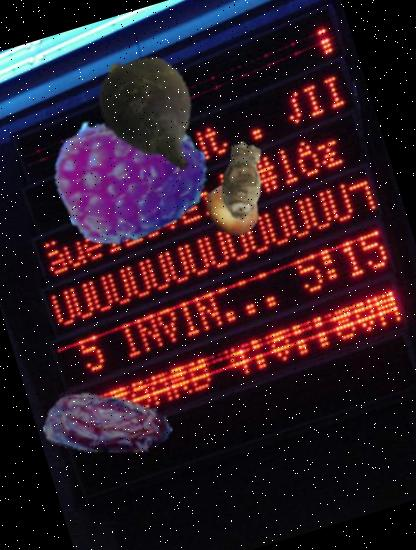Beetroot: (69, 30, 235, 196)
Dates: (28, 341, 188, 502)
Ginger: (192, 131, 292, 231)
Peach: (198, 174, 266, 243)
Raspberry: (37, 79, 223, 265)
